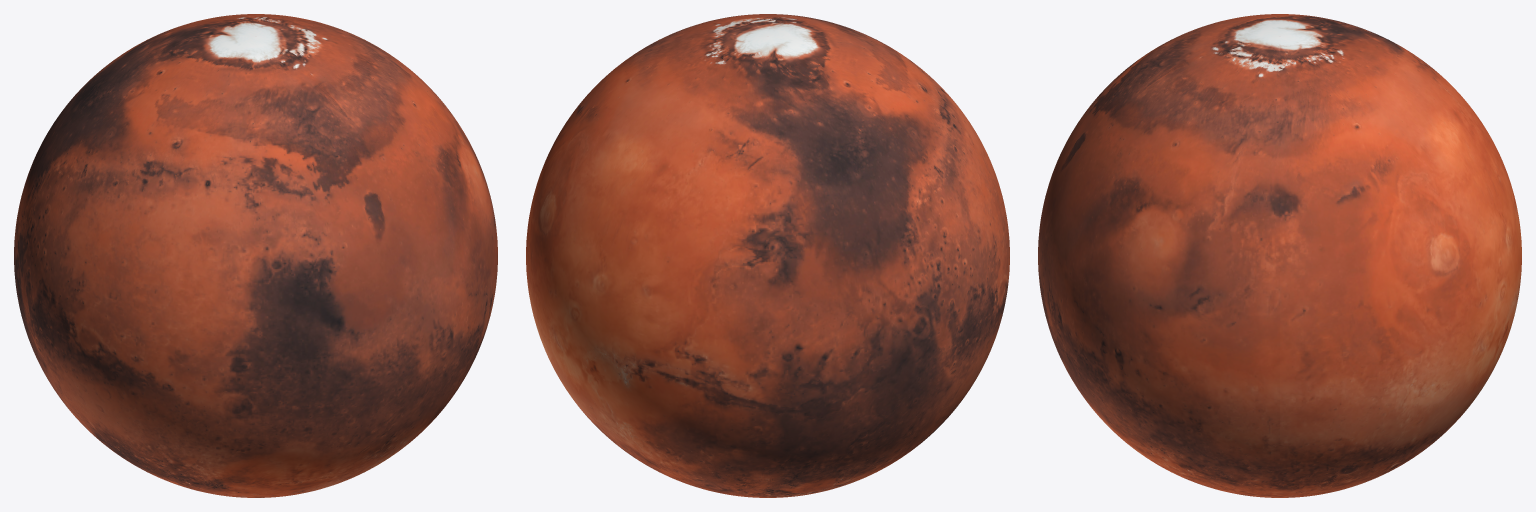
The model's file is marte_v1.1.glb.
3 views of the same model, side by side, from view 1: azimuth 30°, elevation 25°; view 2: azimuth 150°, elevation 25°; view 3: azimuth 270°, elevation 25° (orthographic).
Visible parts, largest first — view 1: Geode; view 2: Geode; view 3: Geode.
Part boxes in pixels (x1,y1,x2,y2): Geode: [14, 14, 497, 497]; Geode: [526, 14, 1009, 497]; Geode: [1038, 14, 1521, 497].
Size of the model in its own units: 200 by 200 by 200.
Materials: 1 (1 with a texture image).
